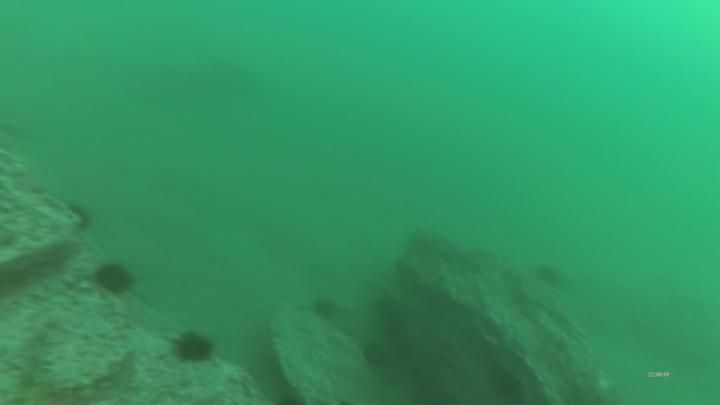echinus: (172, 329, 218, 366), (91, 259, 135, 297), (489, 367, 524, 401), (359, 341, 391, 370), (67, 201, 94, 234), (310, 296, 337, 322), (536, 263, 564, 288)
